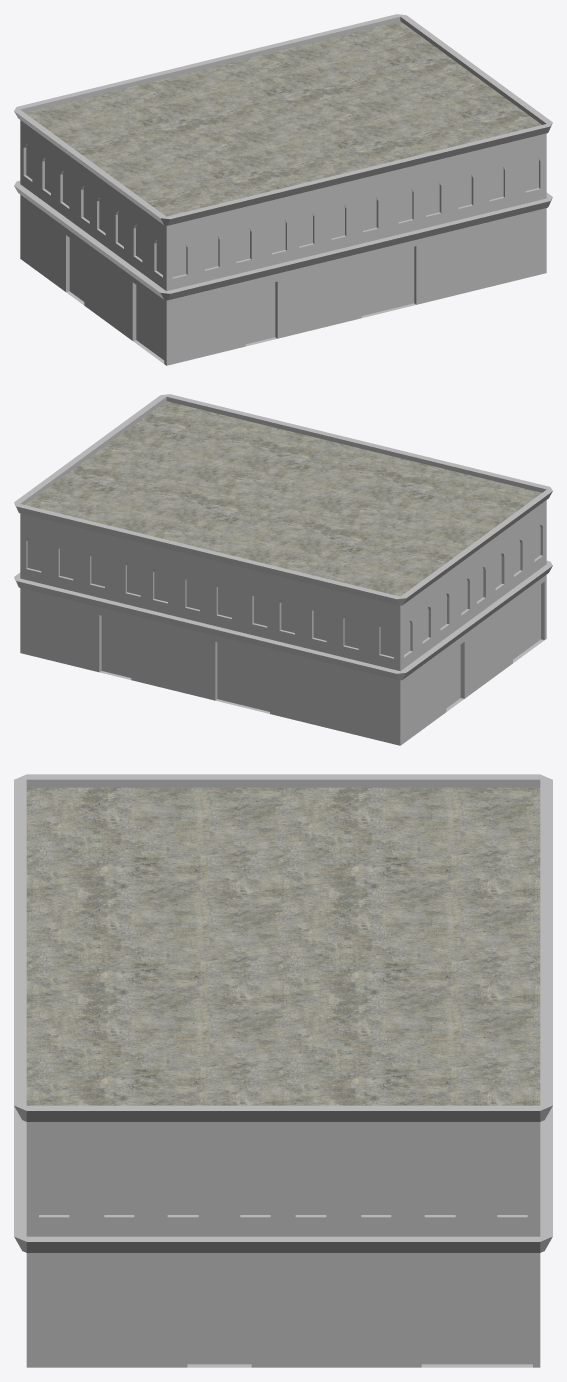
The model's file is DT_Building_Type_12_12.fbx.
The picture shows the model from 3 angles, top to bottom: view 1: azimuth 30°, elevation 25°; view 2: azimuth 150°, elevation 25°; view 3: azimuth 270°, elevation 25°; orthographic projection. The views are drawn at different scales.
Parts seen in each view (by area): view 1: DT_Building_Type_12_12; view 2: DT_Building_Type_12_12; view 3: DT_Building_Type_12_12.
Boxes of the visible parts, box(x1,y1,x2,y2) form: DT_Building_Type_12_12: box(14, 14, 552, 365); DT_Building_Type_12_12: box(14, 394, 552, 745); DT_Building_Type_12_12: box(14, 774, 552, 1367).
Bounding box in the file's own units: 1586 × 576 × 1074.
